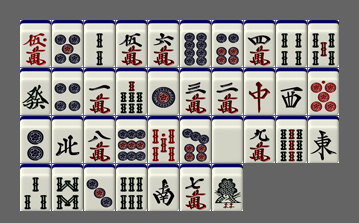0m: (20, 20, 51, 67)
0p: (308, 68, 339, 115)
0s: (148, 116, 179, 163)
1m: (84, 68, 115, 115)
1p: (148, 68, 179, 115)
1s: (212, 164, 243, 211)
1z: (308, 116, 339, 163)
2m: (212, 68, 243, 115)
2p: (20, 116, 51, 163)
2s: (84, 20, 115, 67)
2z: (148, 164, 179, 211)
3m: (180, 68, 211, 115)
3p: (84, 164, 115, 211)
3s: (20, 164, 51, 211)
3z: (276, 68, 307, 115)
4m: (244, 20, 275, 67)
4p: (52, 68, 83, 115)
4s: (276, 20, 307, 67)
4z: (52, 116, 83, 163)
5m: (116, 20, 147, 67)
5p: (52, 20, 83, 67)
5s: (308, 20, 339, 67)
5z: (212, 116, 243, 163)
6m: (148, 20, 179, 67)
6p: (212, 20, 243, 67)
6s: (116, 164, 147, 211)
6z: (20, 68, 51, 115)
7m: (180, 164, 211, 211)
7p: (180, 116, 211, 163)
7s: (116, 68, 147, 115)
7z: (244, 68, 275, 115)
8m: (84, 116, 115, 163)
8p: (180, 20, 211, 67)
8s: (52, 164, 83, 211)
9m: (244, 116, 275, 163)
9p: (116, 116, 147, 163)
9s: (276, 116, 307, 163)
